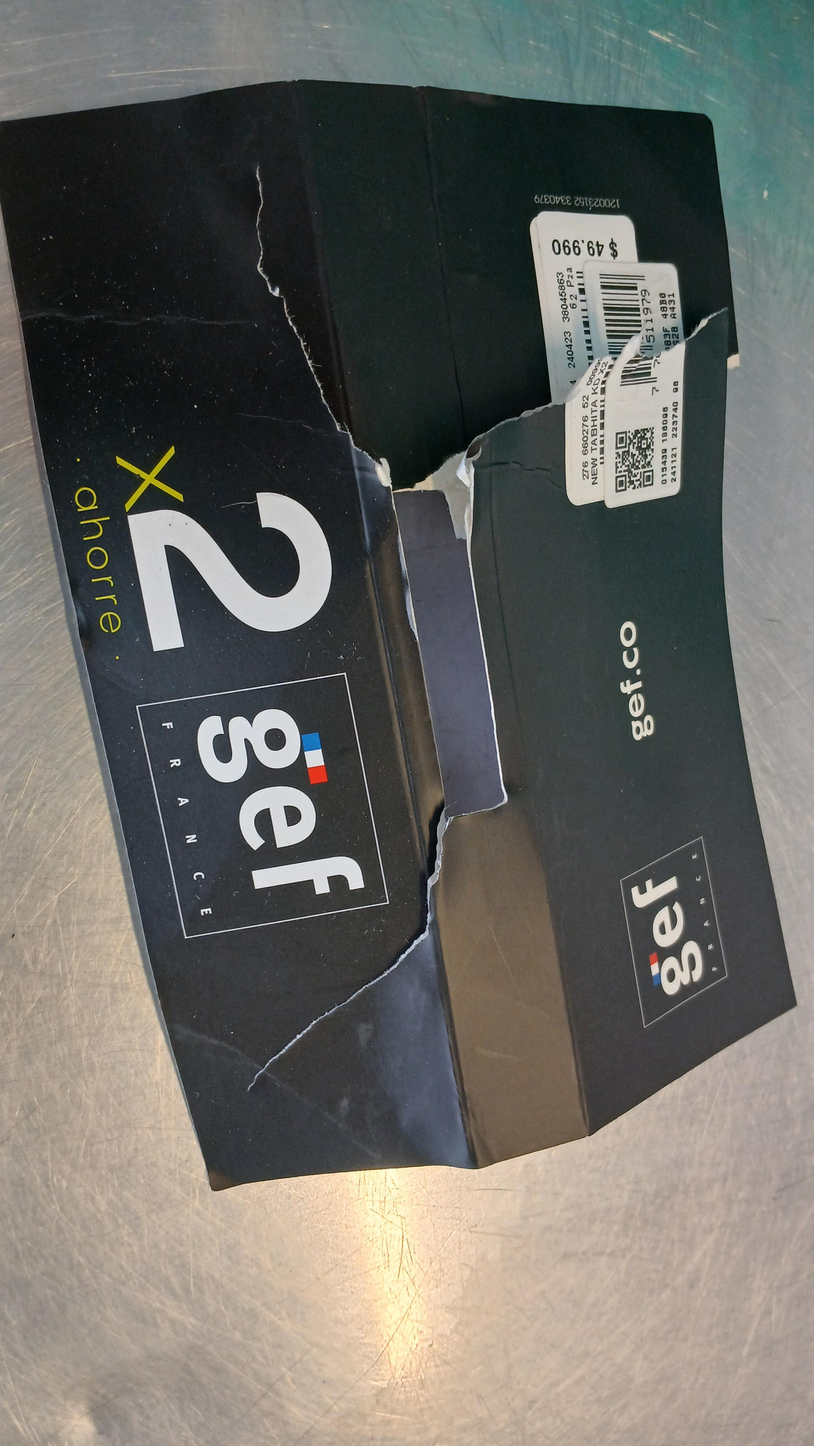Papel: (2, 81, 814, 1194)
